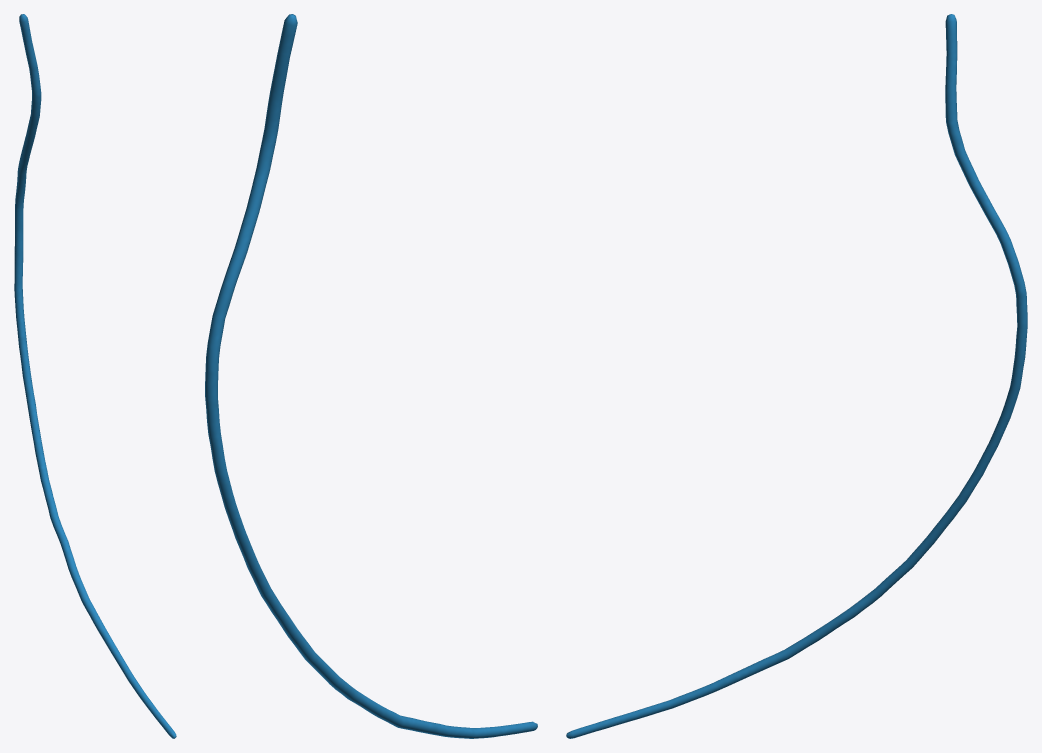
File: CN XII - Hypoglossal Nerve.glb
The picture shows the model from 3 angles, left to right: view 1: azimuth 30°, elevation 25°; view 2: azimuth 150°, elevation 25°; view 3: azimuth 270°, elevation 25°; orthographic projection. The views are drawn at different scales.
Visible parts, largest first — view 1: CN XII - Hypoglossal Nerve.glb; view 2: CN XII - Hypoglossal Nerve.glb; view 3: CN XII - Hypoglossal Nerve.glb.
Boxes of the visible parts, <box> form: CN XII - Hypoglossal Nerve.glb: <box>14,14,176,738</box>; CN XII - Hypoglossal Nerve.glb: <box>205,14,537,738</box>; CN XII - Hypoglossal Nerve.glb: <box>566,14,1027,738</box>.
Size of the model in its own units: 0.0216 by 0.3056 by 0.1754.
1 material, 1 textured.
